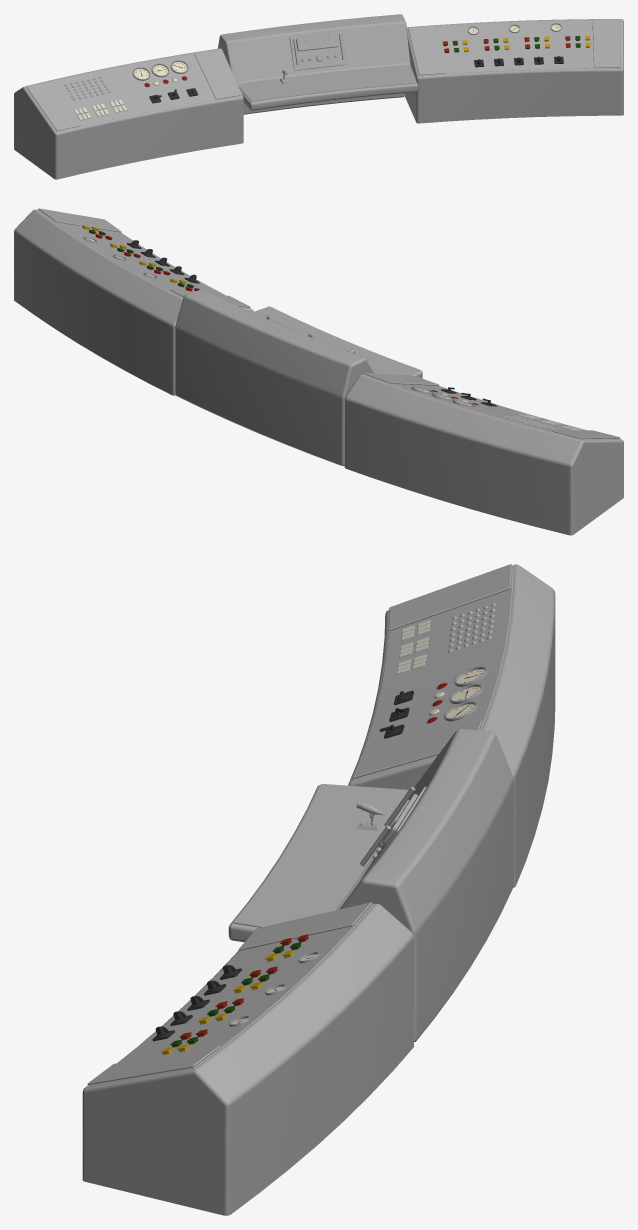
File: ControlPanelCTRL.fbx
3 views of the same model, one above another, from view 1: azimuth 30°, elevation 25°; view 2: azimuth 150°, elevation 25°; view 3: azimuth 270°, elevation 25° (orthographic). The views are drawn at different scales.
Visible parts, largest first — view 1: separated_04, duplicated_18, Middle2, duplicated_20, duplicated_17, pCube8, ButtonsQuad1, pCube9, Buttons06, Knob11, GaugeSmall2; view 2: separated_04, Middle2, duplicated_18, duplicated_20, duplicated_17, ButtonsQuad1; view 3: separated_04, Middle2, duplicated_18, duplicated_17, duplicated_20, ButtonsQuad1, Buttons06.
Boxes of the visible parts, x1,y1,x2,y2 form: separated_04: [14, 19, 623, 179]; duplicated_18: [26, 20, 621, 132]; Middle2: [218, 14, 417, 114]; duplicated_20: [26, 19, 620, 131]; duplicated_17: [237, 64, 415, 101]; pCube8: [289, 30, 346, 70]; ButtonsQuad1: [443, 36, 590, 53]; pCube9: [296, 34, 338, 51]; Buttons06: [73, 100, 127, 120]; Knob11: [149, 88, 198, 103]; GaugeSmall2: [467, 23, 561, 34]; separated_04: [14, 209, 623, 535]; Middle2: [175, 289, 422, 465]; duplicated_18: [37, 209, 620, 439]; duplicated_20: [38, 208, 620, 439]; duplicated_17: [252, 306, 419, 375]; ButtonsQuad1: [82, 225, 199, 291]; separated_04: [82, 564, 555, 1215]; Middle2: [228, 729, 513, 1042]; duplicated_18: [87, 565, 513, 1086]; duplicated_17: [233, 783, 407, 927]; duplicated_20: [87, 564, 511, 1084]; ButtonsQuad1: [161, 934, 309, 1054]; Buttons06: [396, 620, 431, 674].
Size of the model in its own units: 1062 by 151 by 412.
